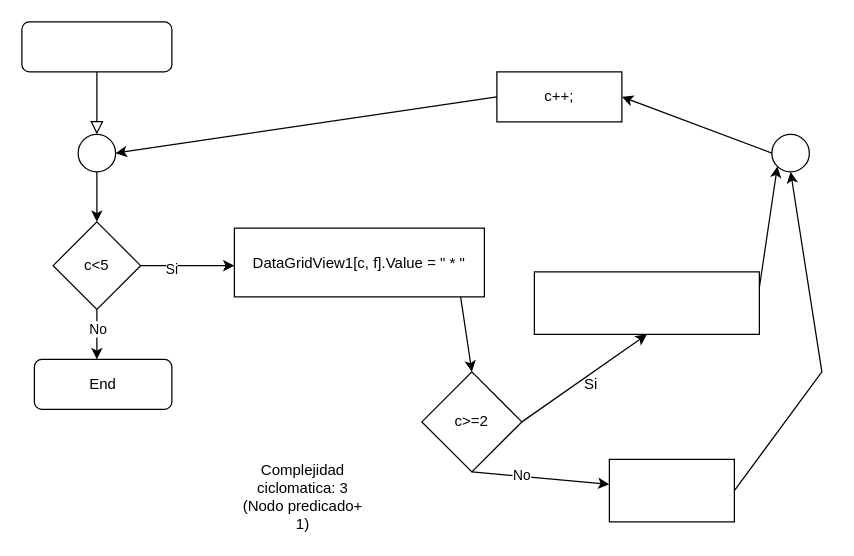
Some shapes in this 854 by 556 pixel diagram are drawn without their labels. The shapes that lost their labels are listed below. From the top down, each one's box as (x1, y1, x2, y2) in pixels, then its label:
(21, 21, 172, 72): Start
(533, 271, 759, 334): f--; DataGridView1[2, c].Value = "*";
(608, 458, 734, 522): f++;
